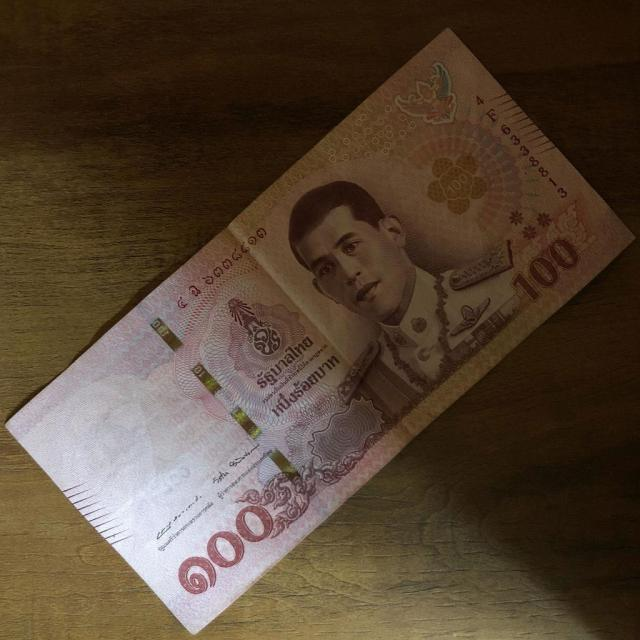THAI100: (7, 31, 632, 633)
